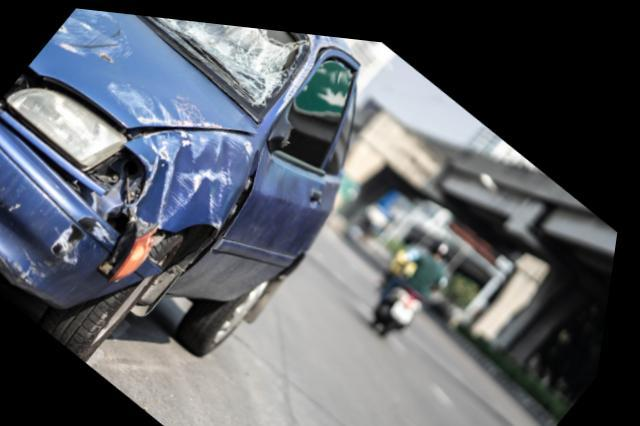dislocated part: (0, 121, 222, 313)
glass shatter: (149, 13, 310, 111)
no part: (87, 146, 155, 203)
scratch: (138, 124, 258, 223), (22, 211, 121, 288), (106, 80, 229, 127), (280, 27, 348, 102), (45, 7, 134, 60)
